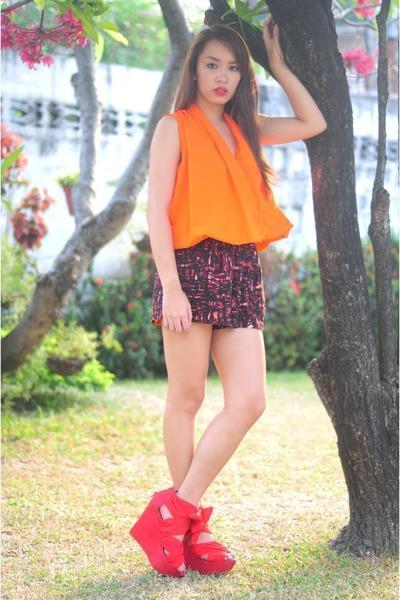short sleeve shirt: (160, 108, 292, 251)
skirt: (140, 239, 273, 333)
